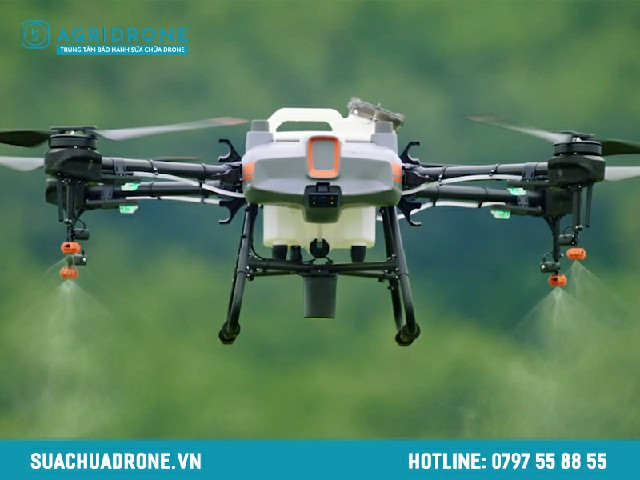maybay_khongnguoilai: (3, 109, 637, 339)
